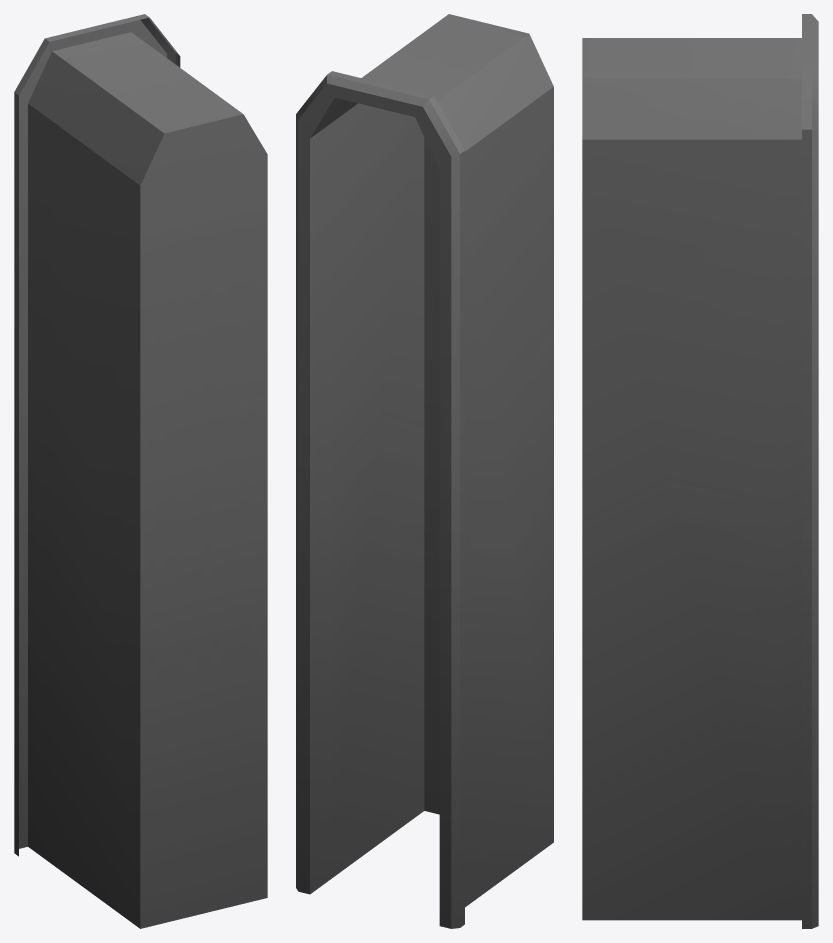
Rendered from SM_wall_LV4_doorway.fbx.
3 renders of one model, left to right at view 1: azimuth 30°, elevation 25°; view 2: azimuth 150°, elevation 25°; view 3: azimuth 270°, elevation 25°, orthographic. The views are drawn at different scales.
Parts seen in each view (by area): view 1: polySurface9; view 2: polySurface9; view 3: polySurface9.
Part boxes in pixels (x1,y1,x2,y2): polySurface9: [14, 14, 267, 928]; polySurface9: [296, 14, 553, 928]; polySurface9: [582, 14, 818, 928].
Size of the model in its own units: 199 by 952 by 240.
